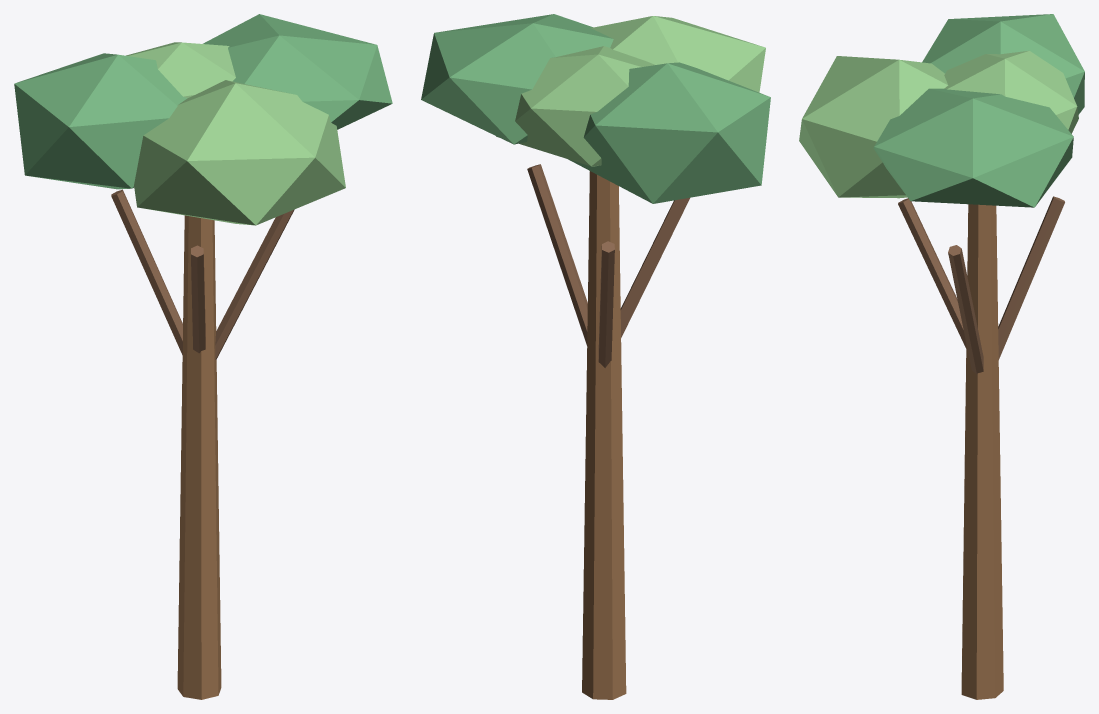
Rendered from broadleaf_03.glb.
3 views of the same model, side by side, from view 1: azimuth 30°, elevation 25°; view 2: azimuth 150°, elevation 25°; view 3: azimuth 270°, elevation 25° (orthographic). The views are drawn at different scales.
Visible parts, largest first — view 1: broadleaf_03; view 2: broadleaf_03; view 3: broadleaf_03.
Part boxes in pixels (bbox=[...]): broadleaf_03: bbox=[14, 14, 392, 699]; broadleaf_03: bbox=[421, 14, 770, 699]; broadleaf_03: bbox=[799, 14, 1084, 699].
Size of the model in its own units: 2.85 by 5.19 by 2.12.
